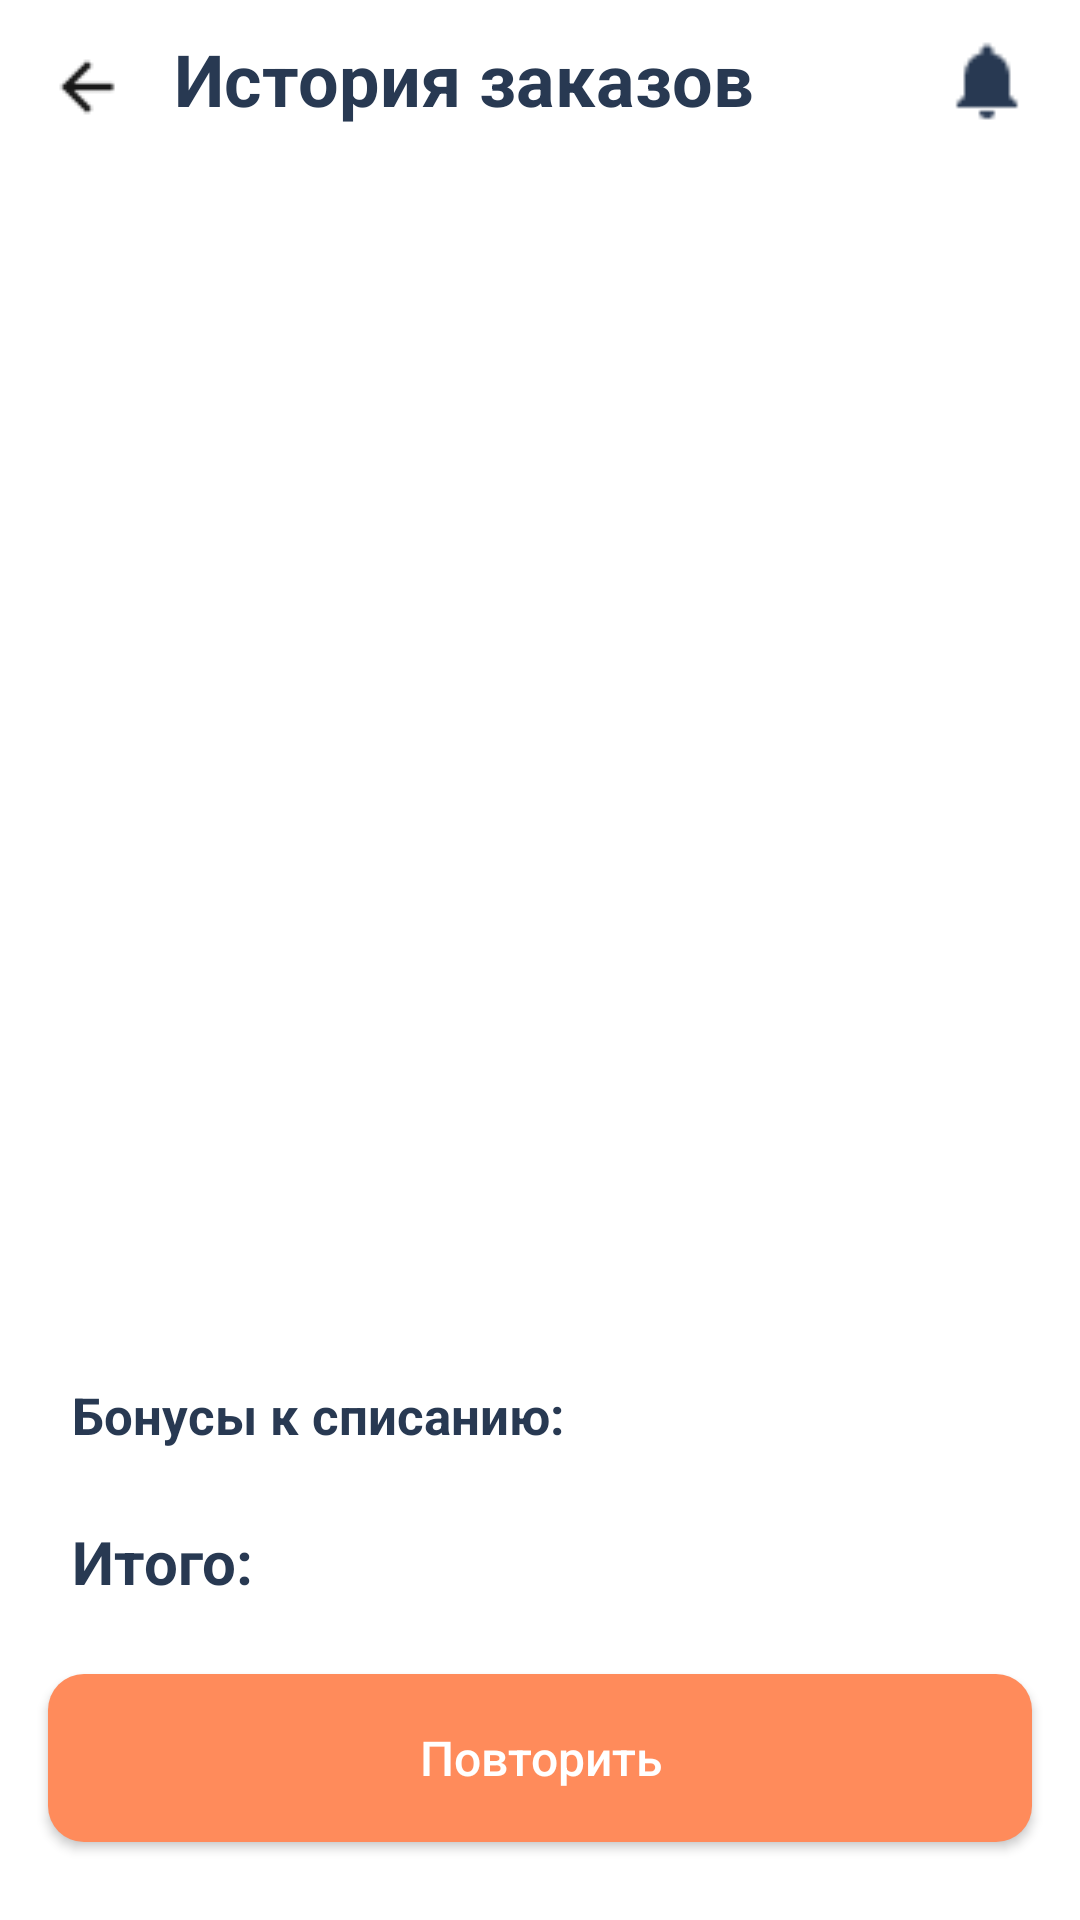

Where to tap for icons on this 1080px x 1920px app screen, as (x=x, y=y):
back: (x=87, y=87)
notif: (x=987, y=81)
